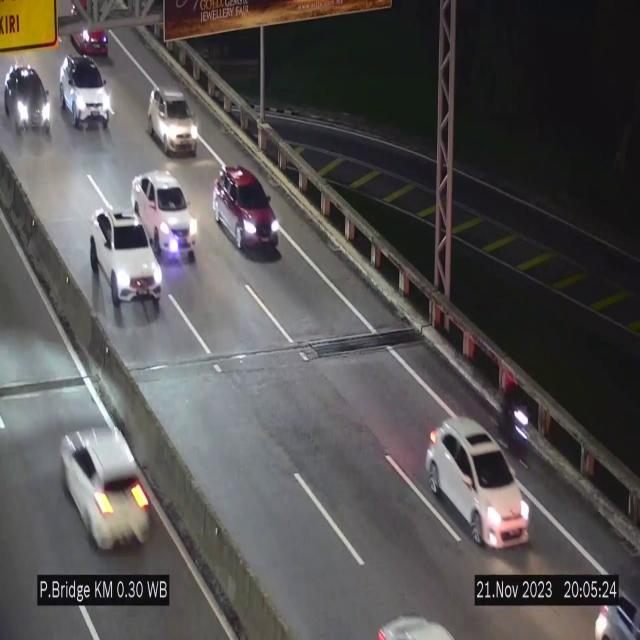Car: (425, 418, 530, 548), (90, 210, 162, 318), (213, 164, 280, 256), (132, 171, 192, 254), (60, 55, 110, 127), (5, 66, 53, 137), (148, 88, 198, 155)
Motorcycle: (497, 370, 534, 468)
